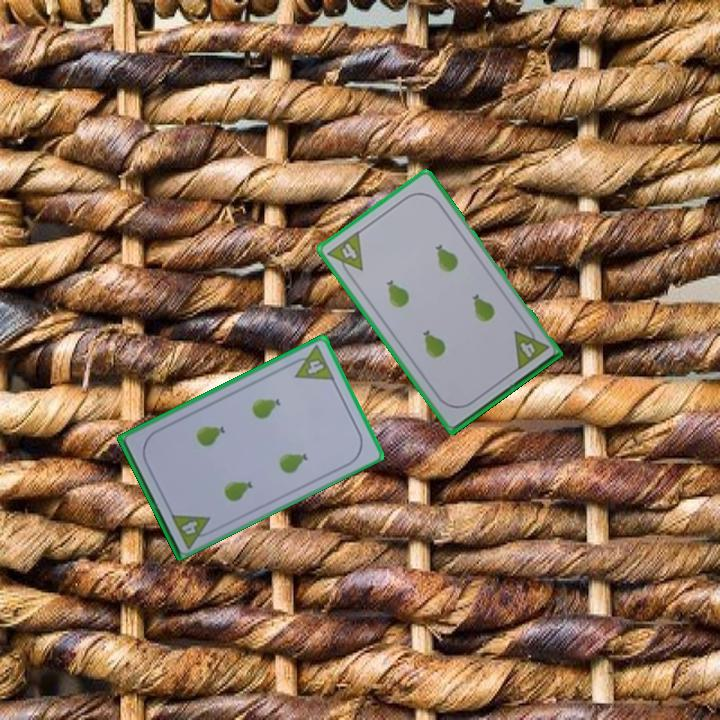4p: (324, 227, 366, 281), (510, 321, 552, 373), (286, 341, 337, 383), (167, 509, 218, 551)
